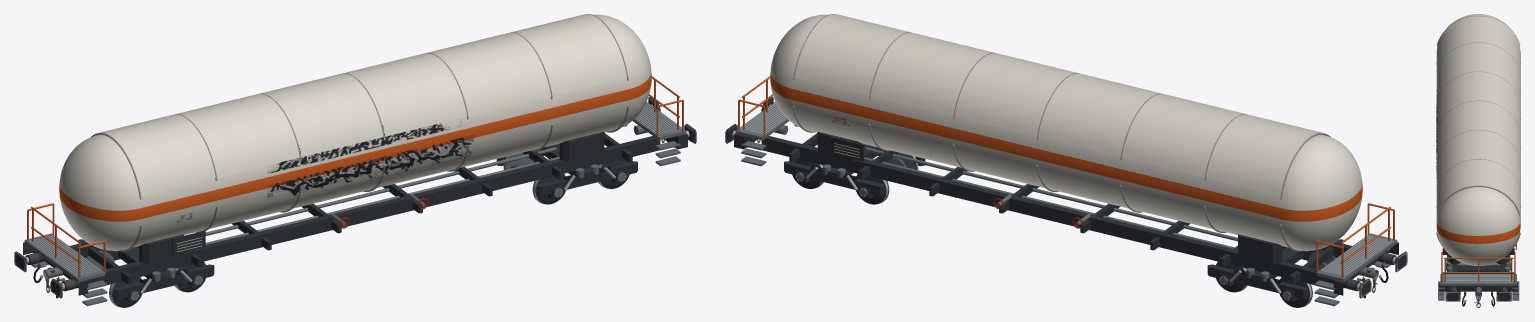
File: CYS2.glb
The picture shows the model from 3 angles, left to right: view 1: azimuth 30°, elevation 25°; view 2: azimuth 150°, elevation 25°; view 3: azimuth 270°, elevation 25°; orthographic projection. The views are drawn at different scales.
Visible parts, largest first — view 1: Zbiornik, podwozie i pomosty, Rama, zawieszenie i hamulce, Rama, zawieszenie i hamulce.001, Sprzęg śrubowy i zderzaki, KOLA_2, KOLA_0; view 2: Zbiornik, podwozie i pomosty, Rama, zawieszenie i hamulce, Rama, zawieszenie i hamulce.001, Sprzęg śrubowy i zderzaki, KOLA_2, KOLA_0; view 3: Zbiornik, podwozie i pomosty, Rama, zawieszenie i hamulce.001, Sprzęg śrubowy i zderzaki.
Boxes of the visible parts, <box> form: Zbiornik, podwozie i pomosty: <box>16,14,694,306</box>; Rama, zawieszenie i hamulce: <box>109,246,214,301</box>; Rama, zawieszenie i hamulce.001: <box>496,143,637,198</box>; Sprzęg śrubowy i zderzaki: <box>14,97,696,298</box>; KOLA_2: <box>503,153,565,204</box>; KOLA_0: <box>86,250,142,307</box>; Zbiornik, podwozie i pomosty: <box>727,14,1405,306</box>; Rama, zawieszenie i hamulce: <box>1207,246,1312,301</box>; Rama, zawieszenie i hamulce.001: <box>784,143,925,198</box>; Sprzęg śrubowy i zderzaki: <box>725,97,1407,298</box>; KOLA_2: <box>856,153,918,204</box>; KOLA_0: <box>1279,250,1335,307</box>; Zbiornik, podwozie i pomosty: <box>1436,14,1520,300</box>; Rama, zawieszenie i hamulce.001: <box>1446,255,1510,294</box>; Sprzęg śrubowy i zderzaki: <box>1445,287,1511,307</box>.
Size of the model in its own units: 18 by 4.32 by 2.92.
22 materials, 2 textured.
